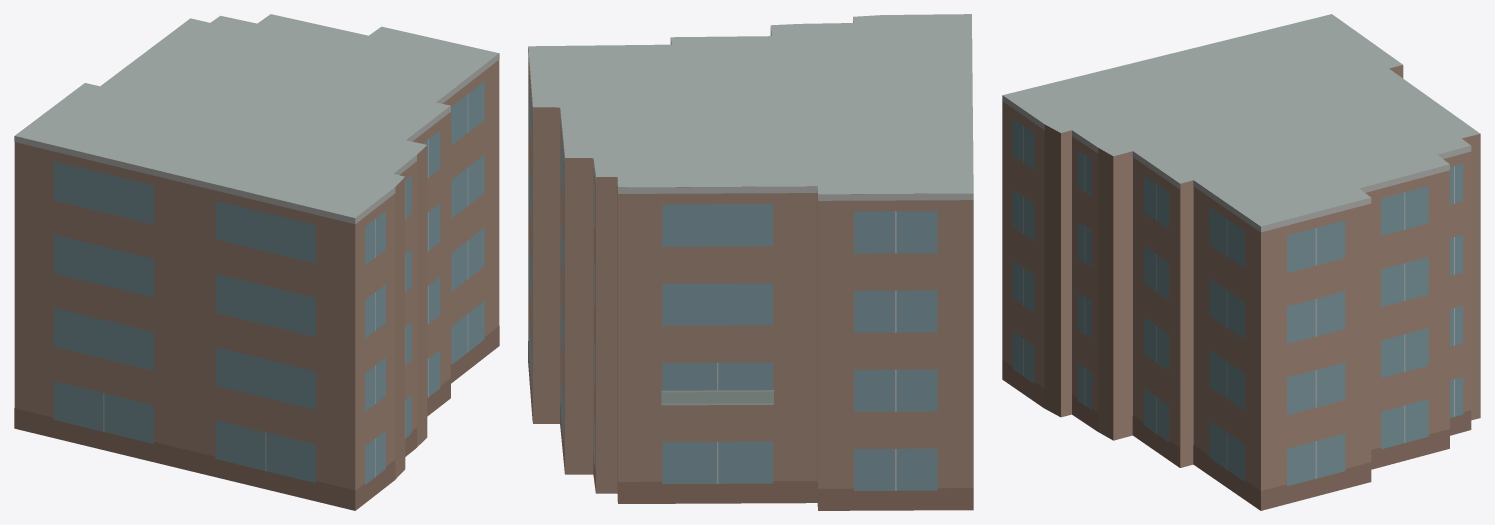
Rendered from survey-upis-33003430.glb.
3 views of the same model, side by side, from view 1: azimuth 30°, elevation 25°; view 2: azimuth 150°, elevation 25°; view 3: azimuth 270°, elevation 25° (orthographic). The views are drawn at different scales.
Visible parts, largest first — view 1: survey-upis-33003430.tmp; view 2: survey-upis-33003430.tmp; view 3: survey-upis-33003430.tmp.
Boxes of the visible parts, left/top/right/bottom form: survey-upis-33003430.tmp: left=14, top=14, right=499, bottom=510; survey-upis-33003430.tmp: left=528, top=14, right=973, bottom=510; survey-upis-33003430.tmp: left=1002, top=14, right=1480, bottom=510.
Size of the model in its own units: 18.76 by 11.7 by 17.84.
